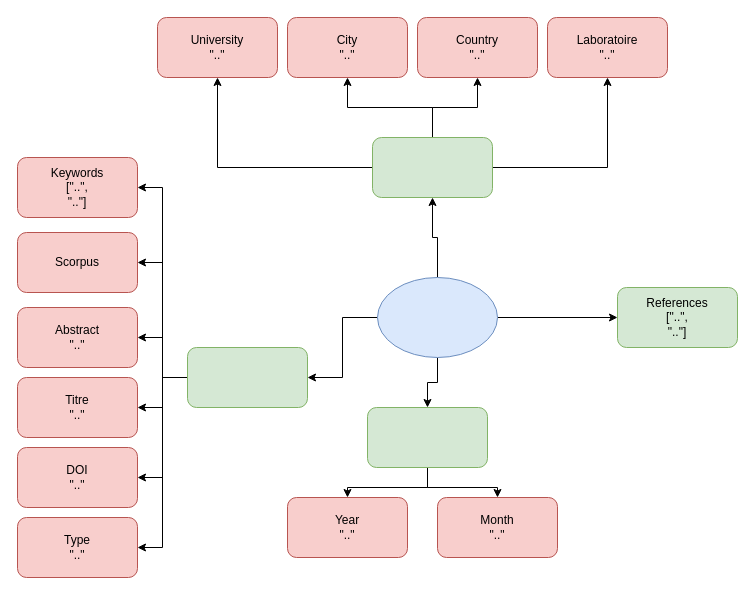
This 755x595 diagram has some shape labels left out. Each missing label, with the box of its shape:
Authors [name: [] ]: (372, 136, 492, 198)
Date []: (366, 406, 488, 468)
Journal []: (186, 346, 308, 408)
Production Scientifique: (376, 276, 498, 358)
